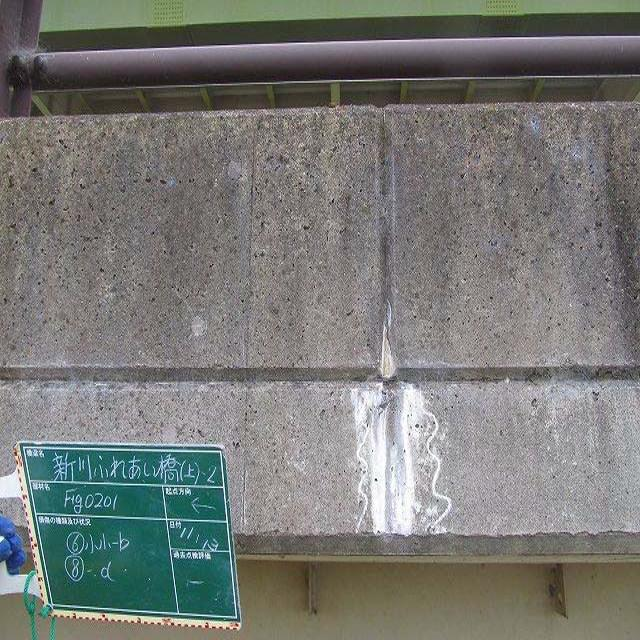freelime: (344, 326, 439, 553)
